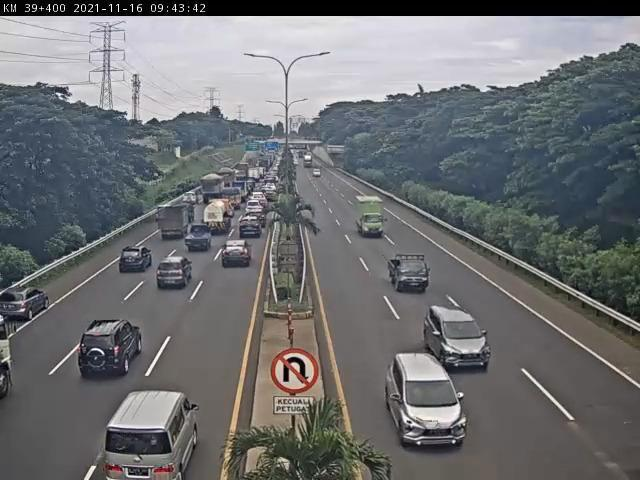car: (97, 385, 206, 480), (381, 350, 470, 454), (72, 312, 147, 387), (422, 302, 493, 374), (1, 282, 53, 326), (386, 255, 429, 297), (154, 255, 193, 293), (118, 244, 156, 278), (220, 239, 254, 272), (184, 224, 214, 256), (238, 218, 264, 240), (246, 207, 269, 229), (181, 188, 202, 206), (245, 201, 265, 218), (252, 191, 267, 205), (265, 189, 279, 202)
truck: (154, 203, 193, 245), (354, 193, 389, 238), (204, 198, 235, 236), (199, 175, 227, 208), (221, 187, 245, 211), (217, 165, 237, 187)
